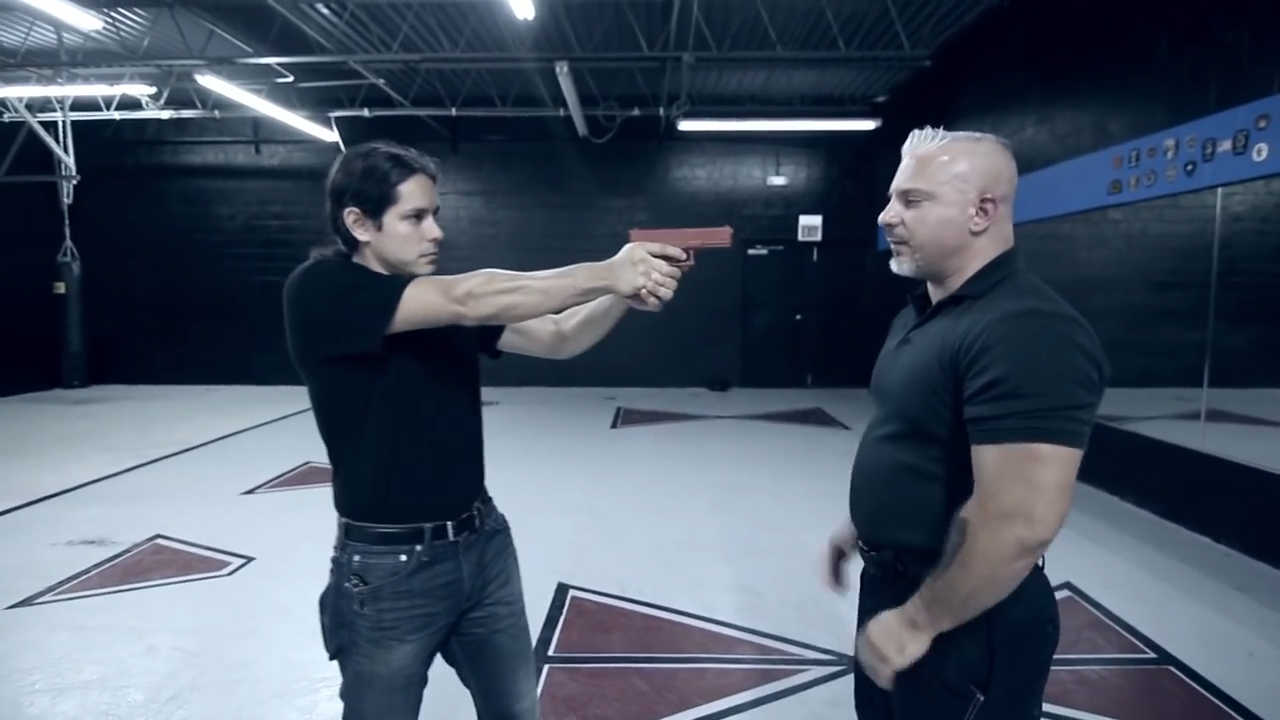pistol: (626, 223, 736, 272)
